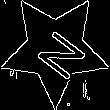N_NW: (25, 19, 85, 80)
